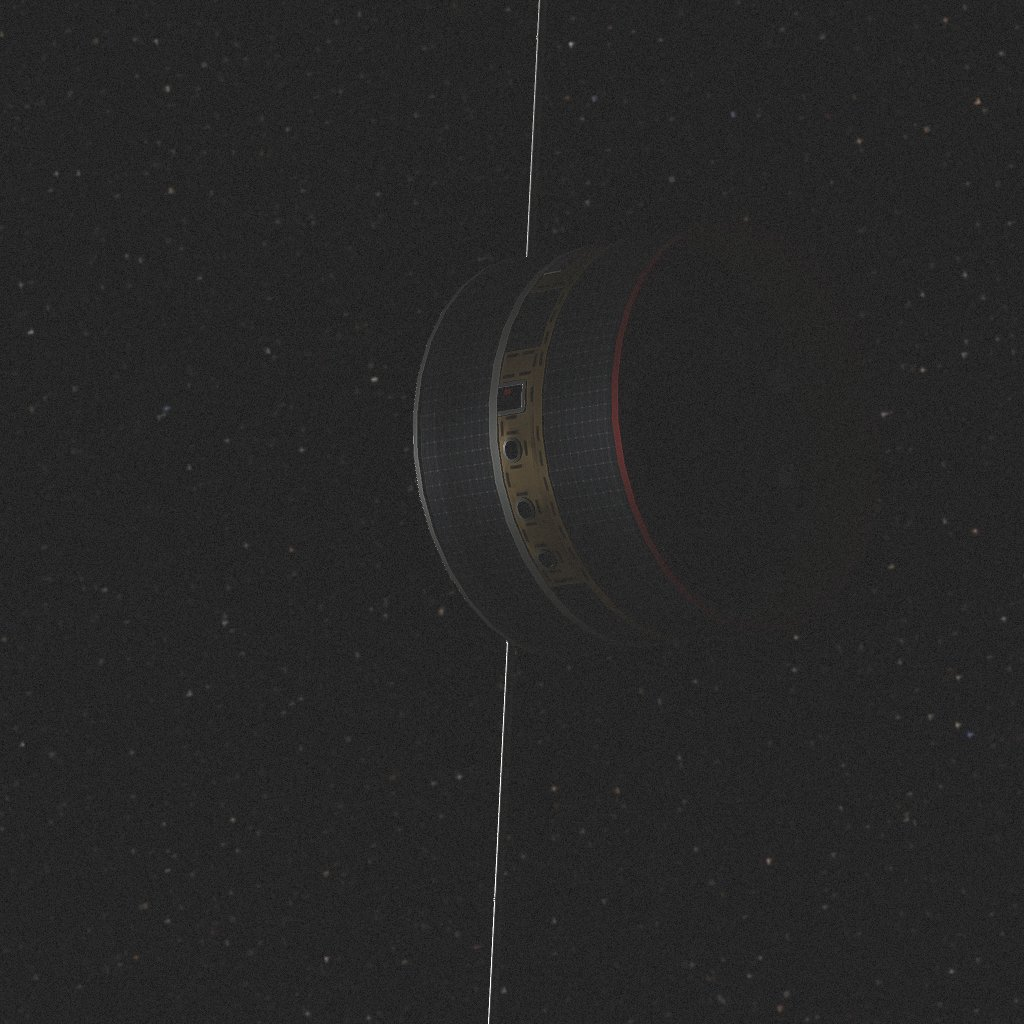double_star: (413, 0, 1024, 1024)
